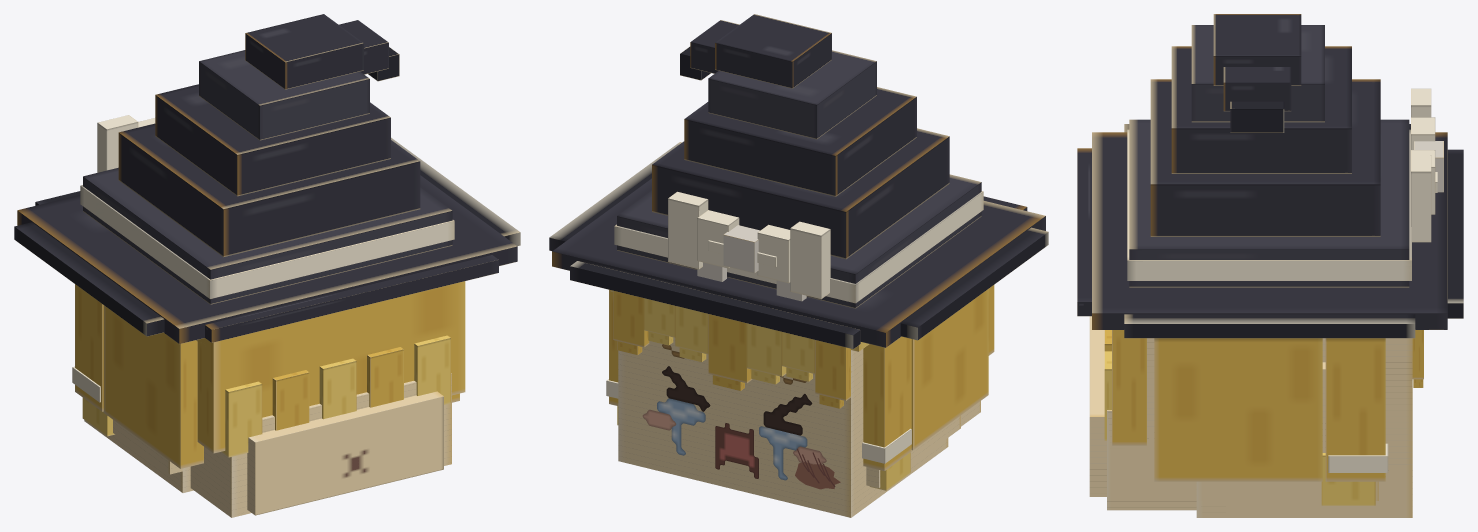
Rendered from scratch_marisa_2.obj.
The picture shows the model from 3 angles, left to right: view 1: azimuth 30°, elevation 25°; view 2: azimuth 150°, elevation 25°; view 3: azimuth 270°, elevation 25°; orthographic projection. The views are drawn at different scales.
Visible parts, largest first — view 1: scratch_marisa_2; view 2: scratch_marisa_2; view 3: scratch_marisa_2.
Part boxes in pixels (box(x1,y1,x2,y2)): scratch_marisa_2: box(14, 14, 520, 517); scratch_marisa_2: box(549, 14, 1048, 517); scratch_marisa_2: box(1077, 14, 1463, 517).
Bounding box in the file's own units: 19 × 19.34 × 15.53.
Materials: 1 (1 with a texture image).
